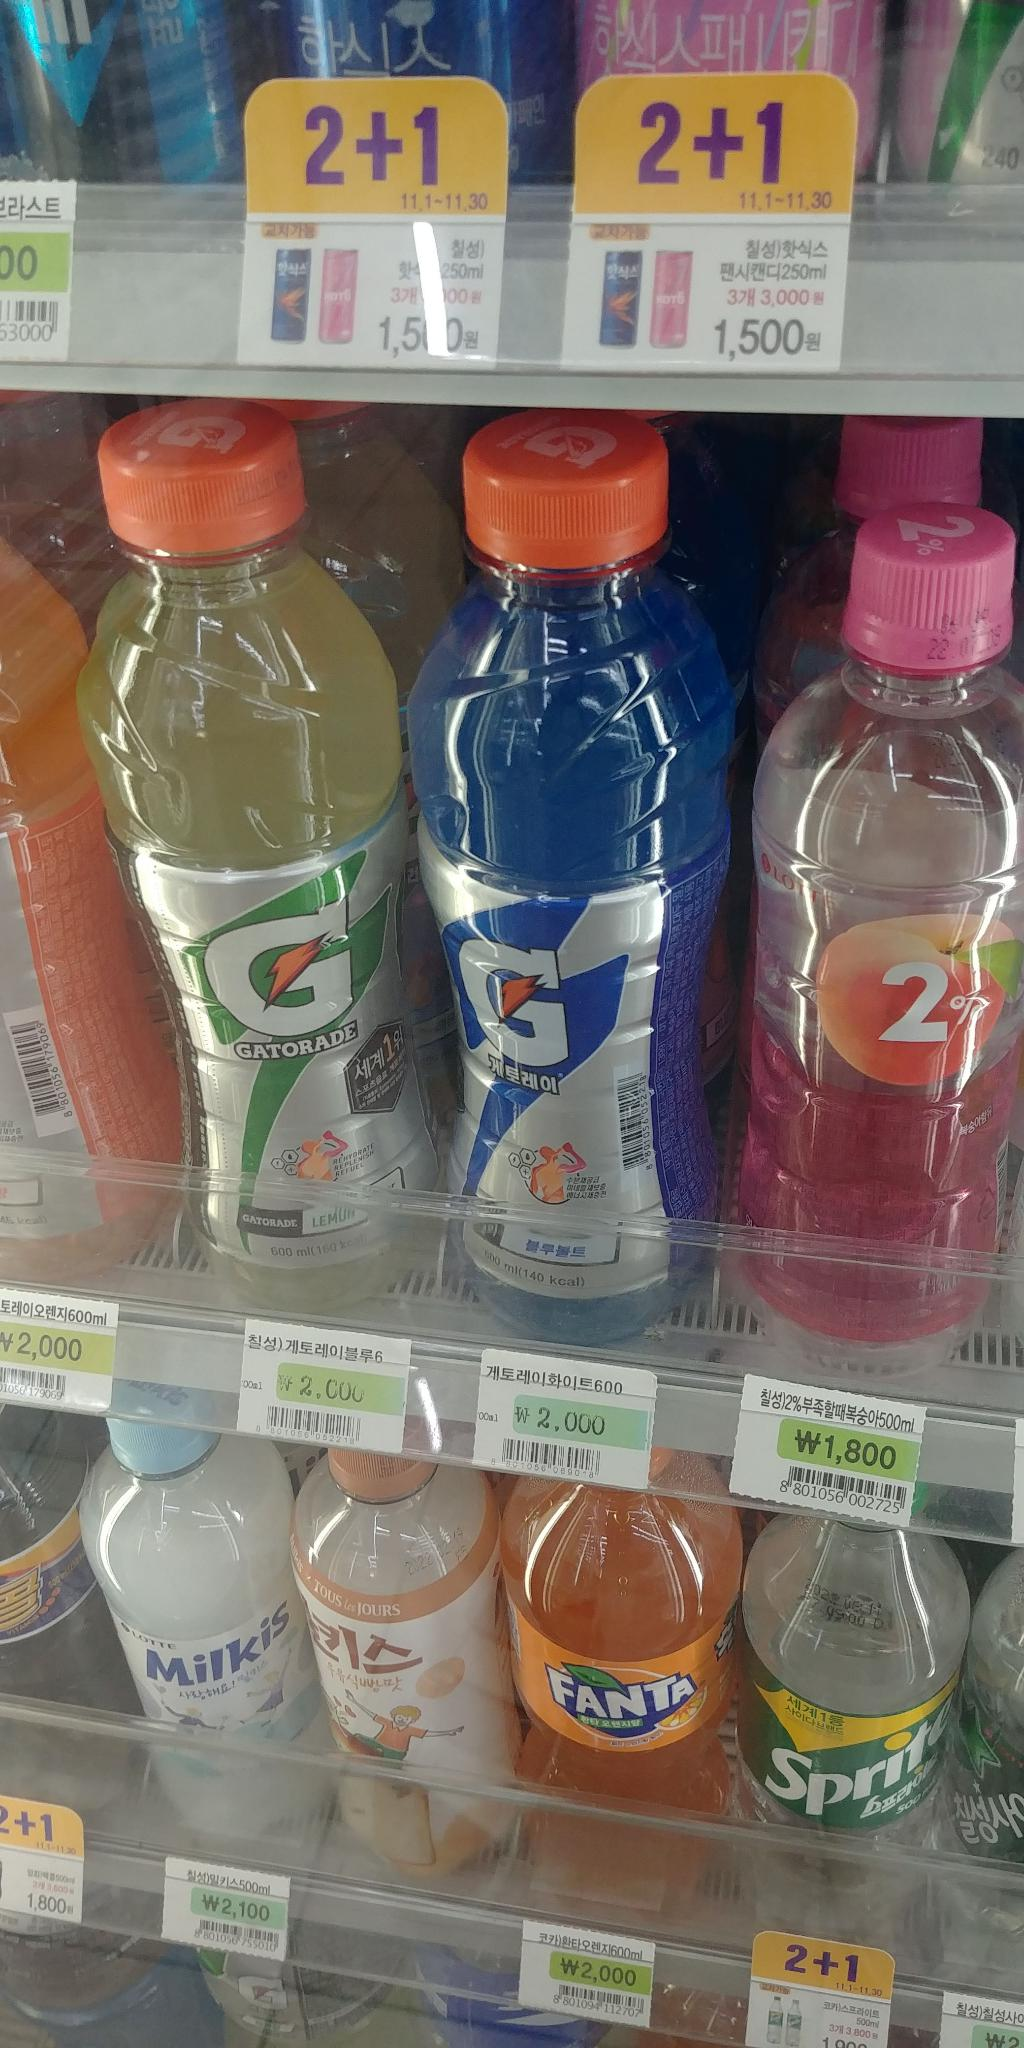gatorade_lemon: (102, 374, 422, 1334)
